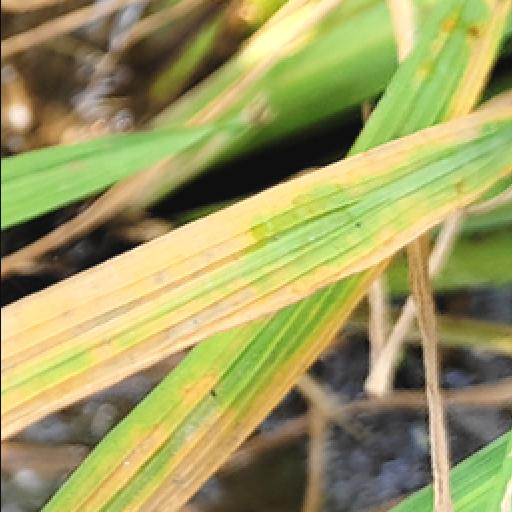Sheath Blight: (0, 6, 510, 512)
